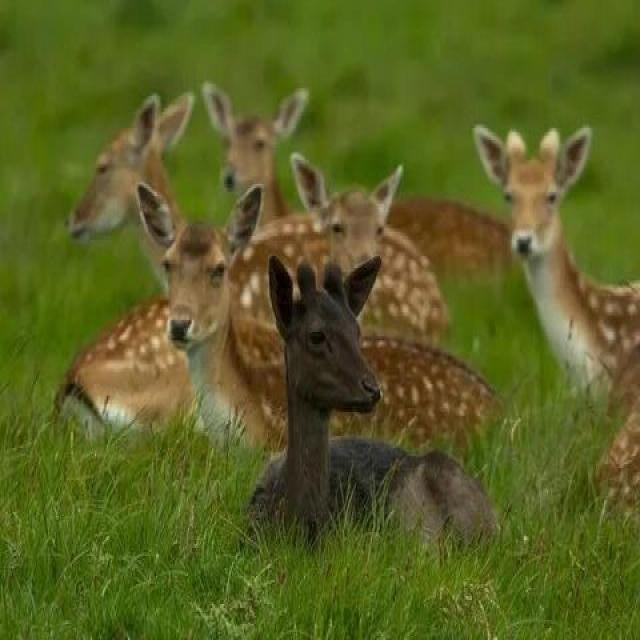deer: (123, 159, 442, 513), (448, 78, 640, 430), (34, 96, 288, 332), (268, 264, 432, 544), (208, 125, 352, 252)
